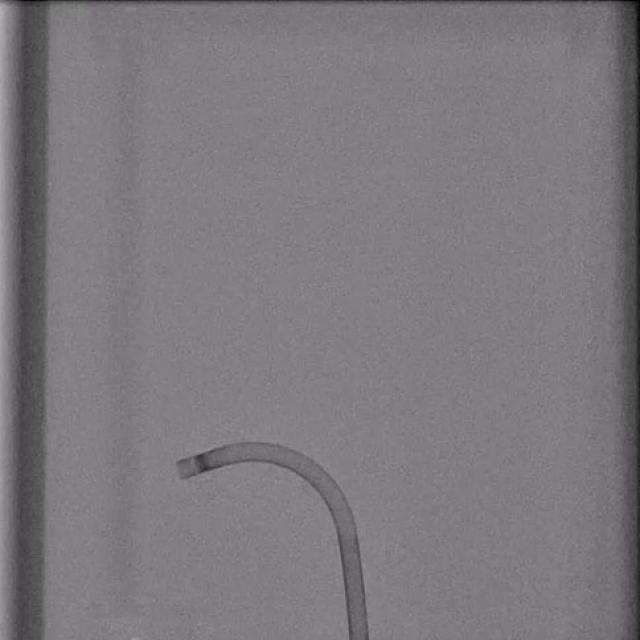bend: (337, 524, 358, 539)
entry: (350, 635, 369, 640)
marker: (195, 451, 211, 474)
tip: (173, 460, 188, 479)
